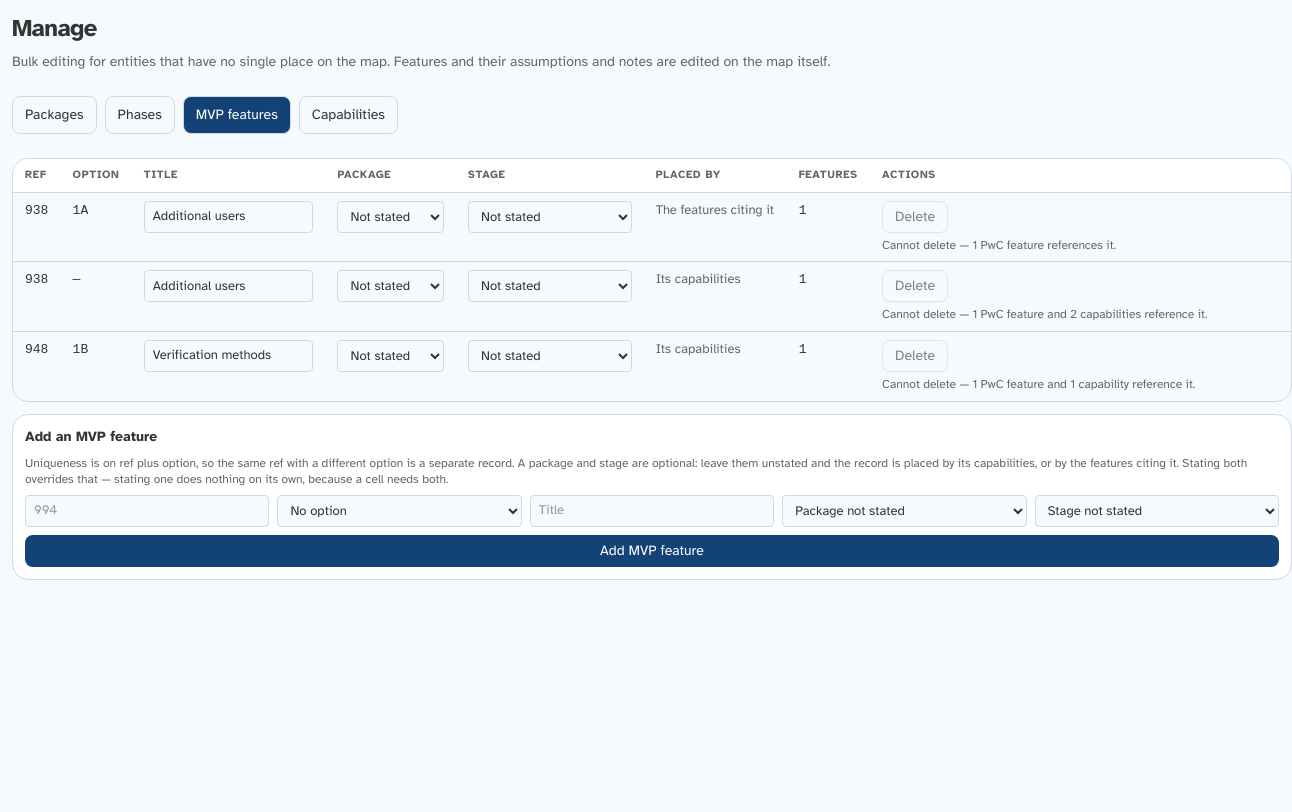
Test case: Manage — MVP features › surfaces a duplicate rejection
The width and height of the screenshot is (1292, 812).
Check: the table named "MVP features" is shown, box 13,159 -> 1291,401
Step 1. Type "951" into the field named "New MVP ref" → (147,511), box 25,495 -> 269,527
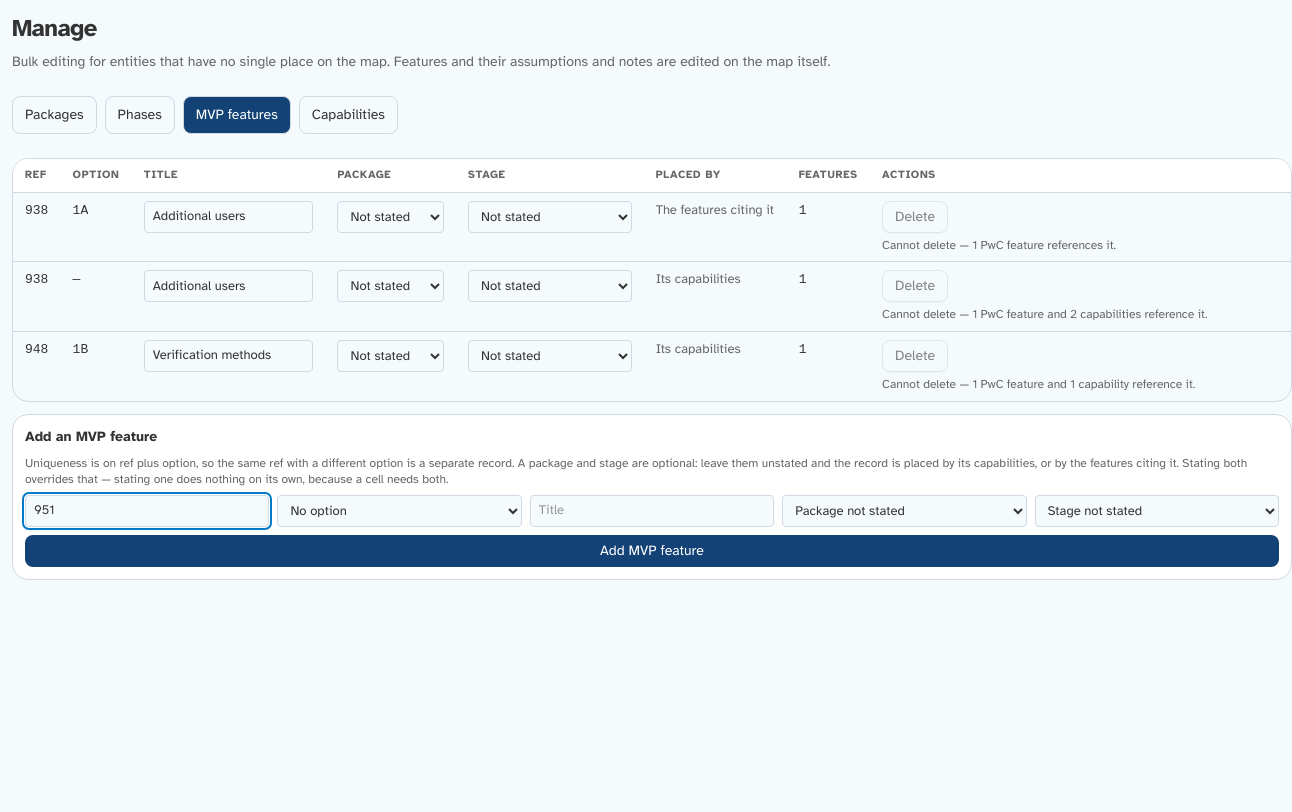
Step 2. Type "dup" into the field named "New MVP title" → (652,511), box 530,495 -> 774,527
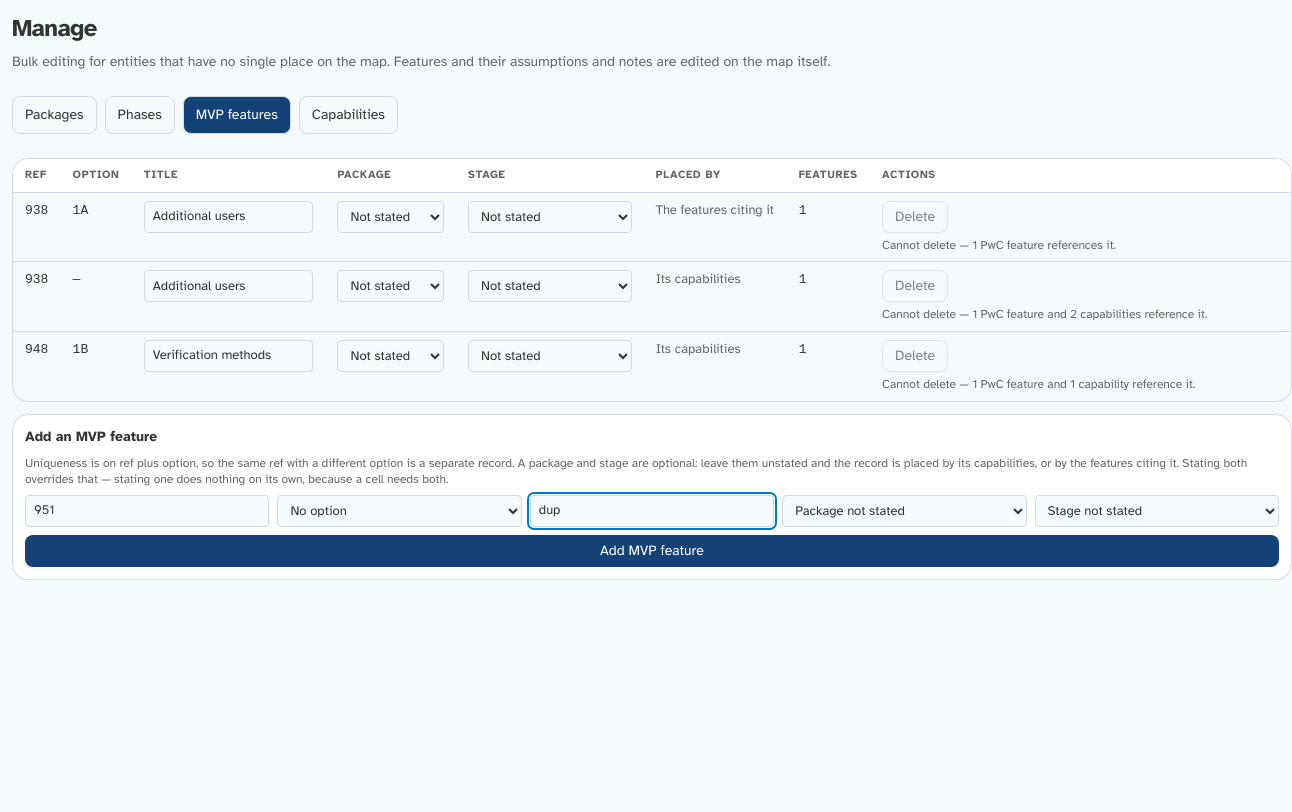
Step 3. Click the button "Add MVP feature" → (652,551), box 25,535 -> 1279,567
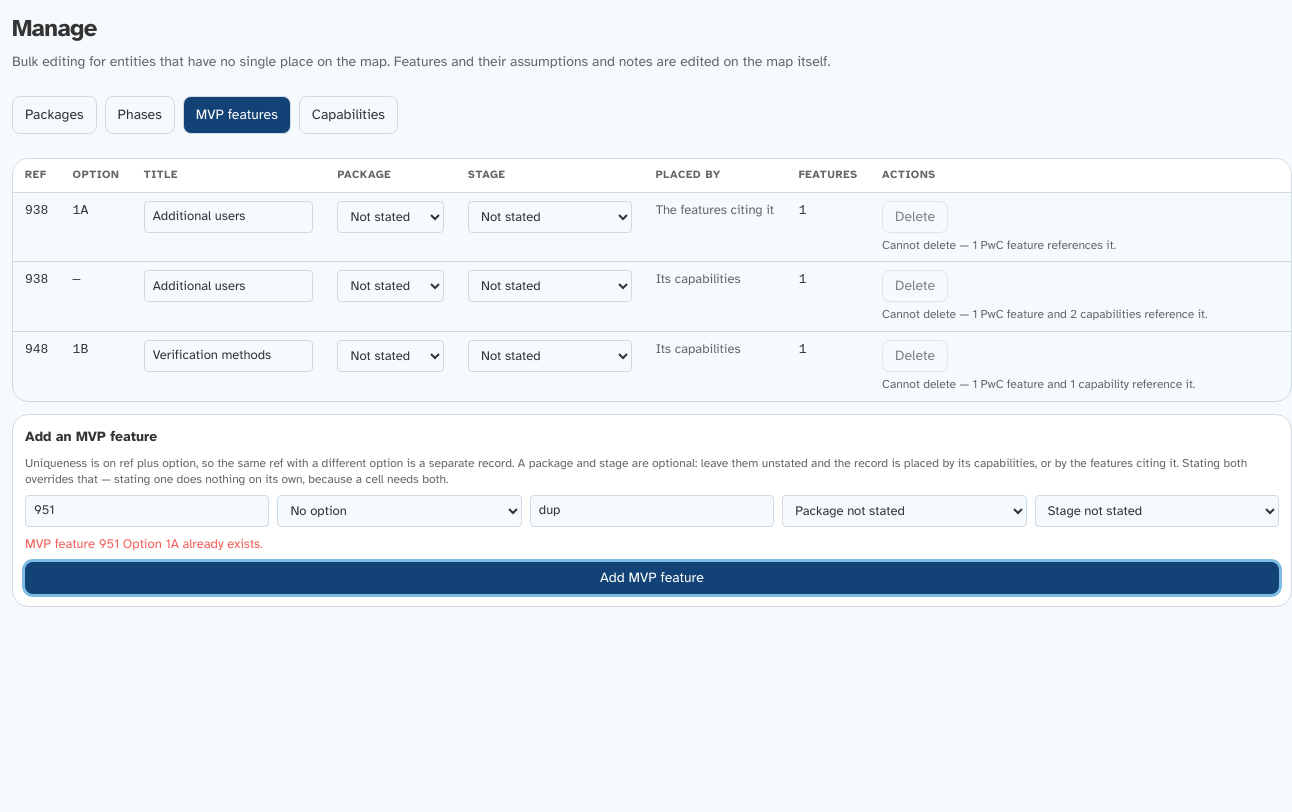
Check: the message shows "already exists", box 25,536 -> 263,552
